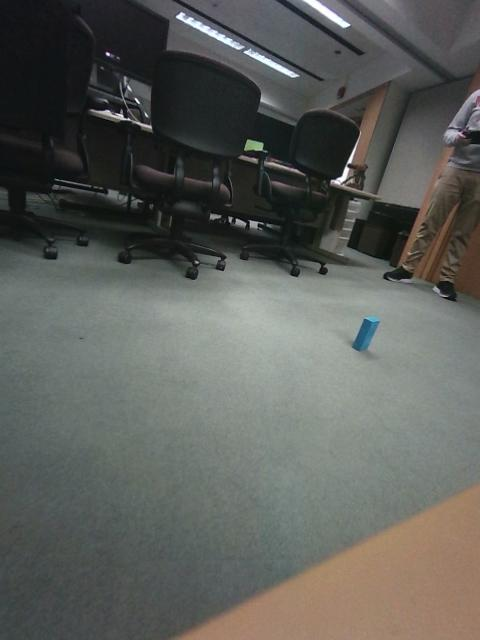block: (71, 434, 173, 552)
